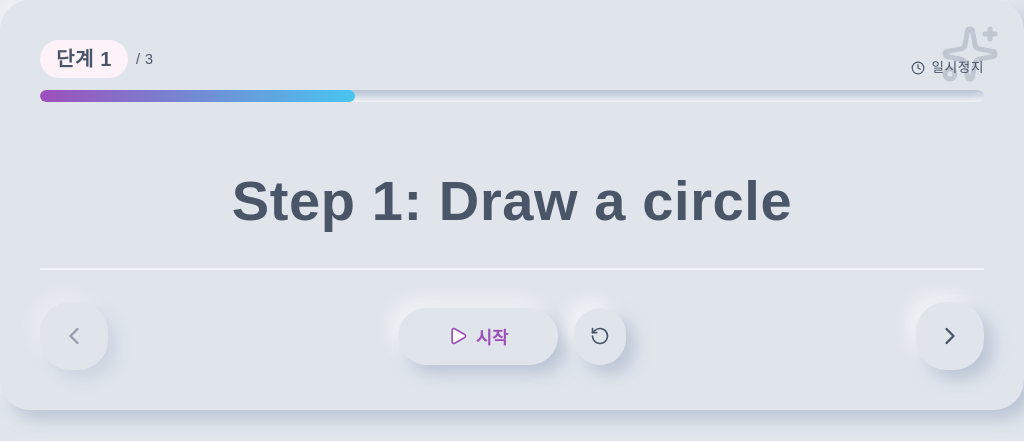
Test case: InstructionViewer Component › should allow manual navigation via buttons
The image size is (1024, 441).
Click the button named "Next step".
click(950, 336)  # box [916, 302, 984, 370]
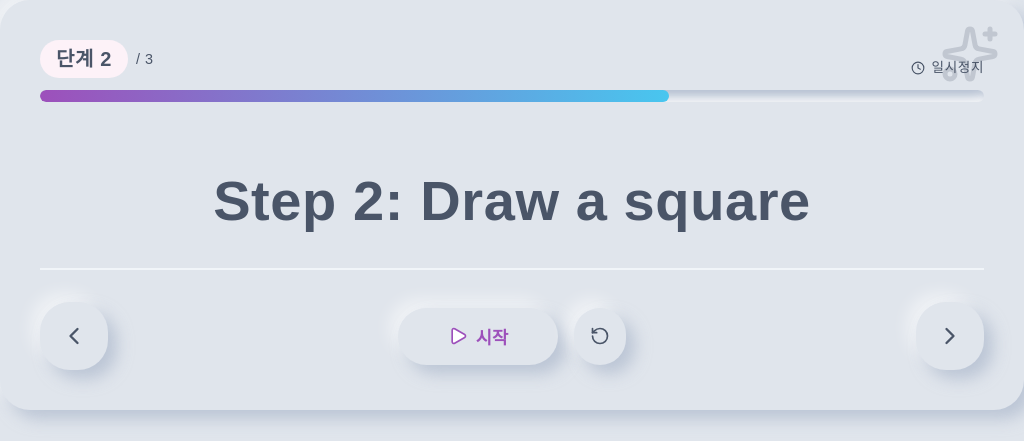
Now the heading "Step 2: Draw a square" is shown, box [213, 166, 811, 236]
Click the button named "Previous step".
click(74, 336)  # box [40, 302, 108, 370]
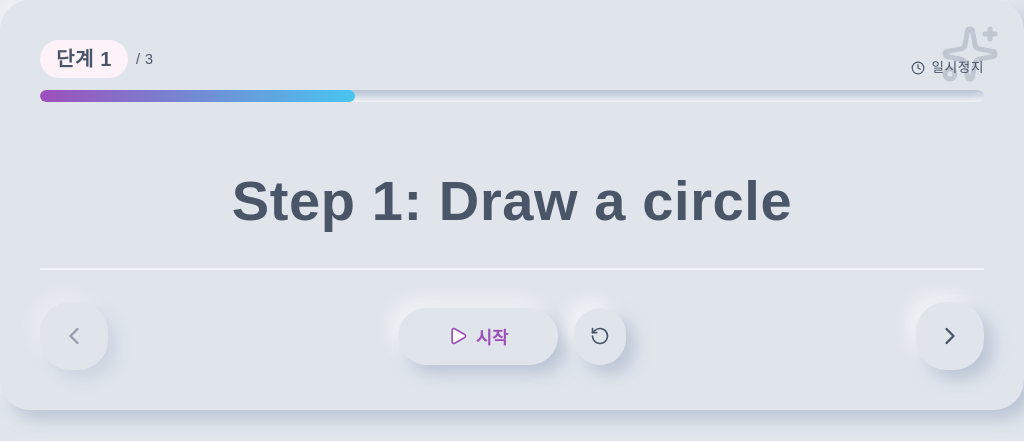
Now the heading "Step 1: Draw a circle" is shown, box [232, 166, 792, 236]
